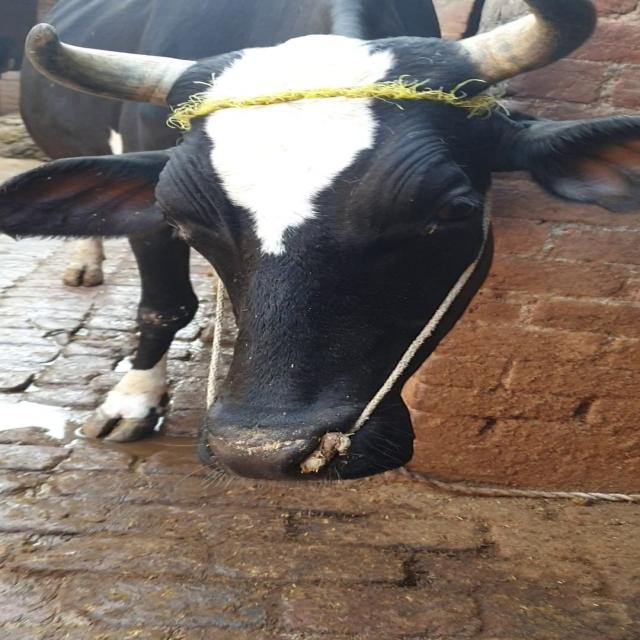cowFace: (130, 29, 511, 503)
